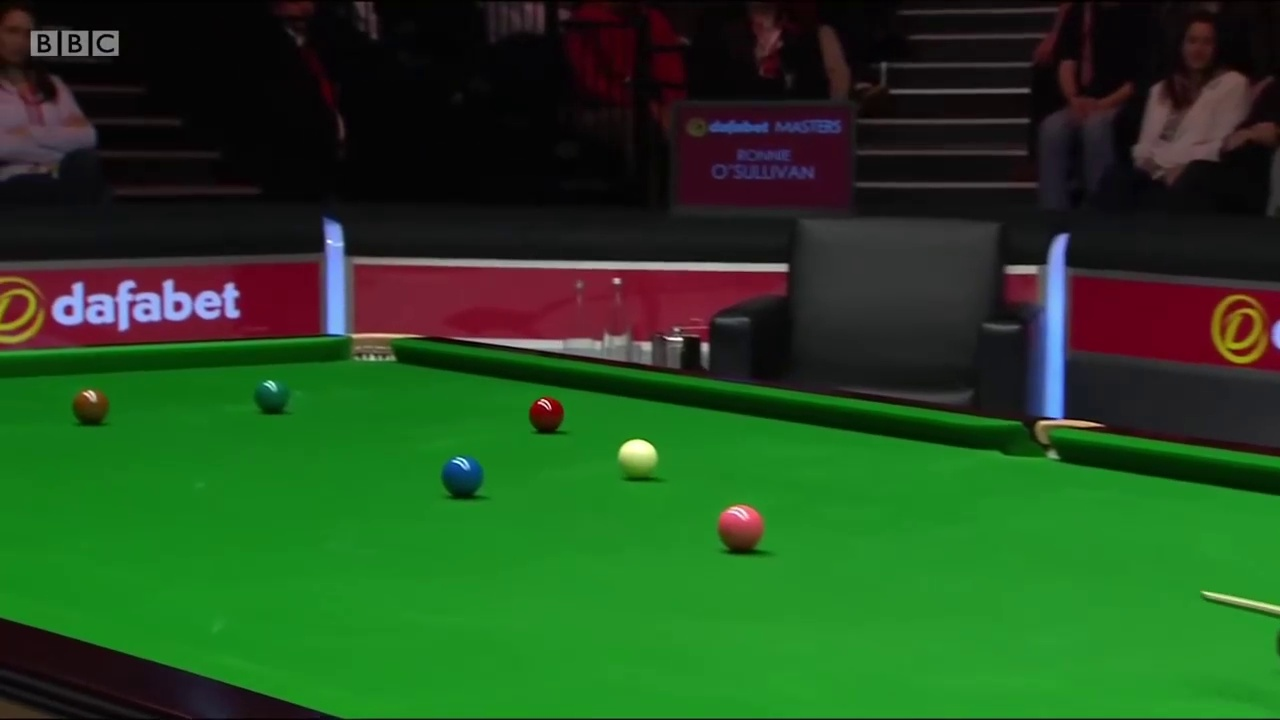Unknown: (1107, 10, 1270, 214)
blue: (442, 455, 483, 496)
brown: (73, 389, 108, 426)
green: (253, 377, 288, 412)
pink: (716, 503, 763, 553)
red: (527, 398, 564, 436)
white: (616, 441, 660, 478)
